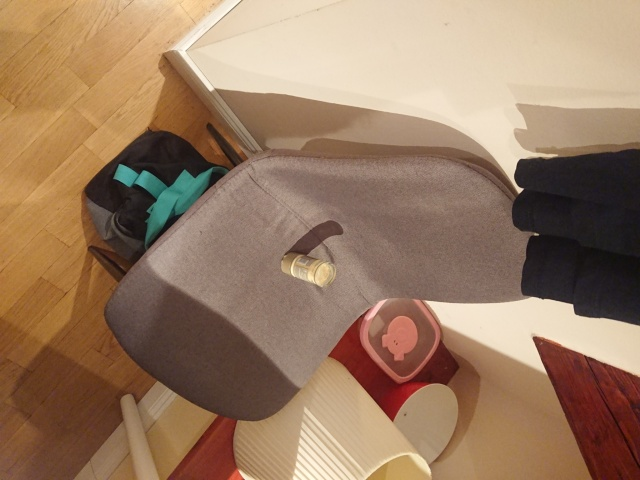Kotanyi Garlic Granules 70g: (279, 248, 339, 290)
